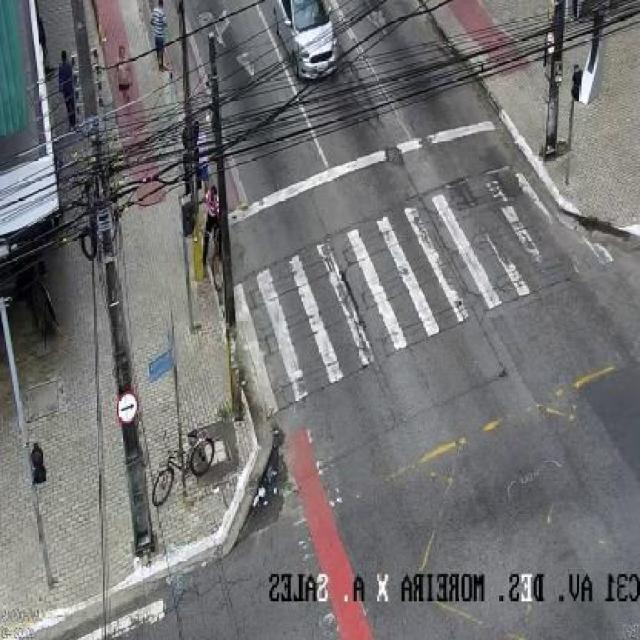Car: (268, 0, 346, 78)
Cycle: (152, 432, 216, 507)
